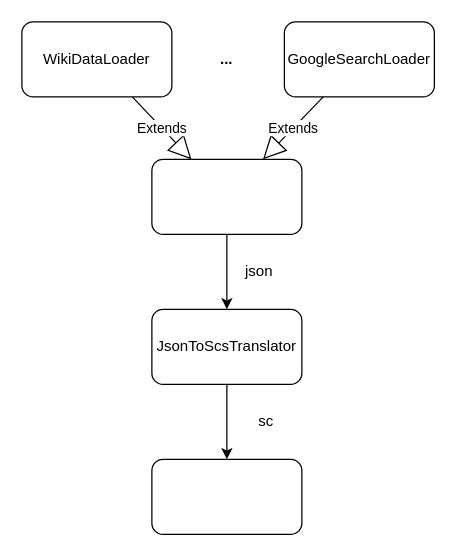
Image size: 456x556. Some labels were removed from this diagram. The centre of each missing label's shape, as x and y in pixels:
"BaseLoader" belongs at [226,196].
"sc-memory" belongs at [226,496].
